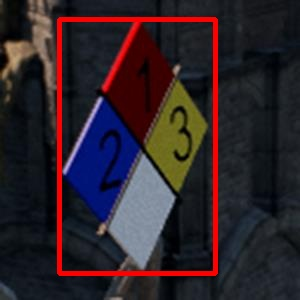nfpa: (59, 19, 215, 273)
